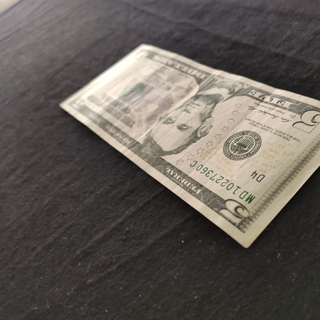5USDFront: (59, 43, 320, 249)
